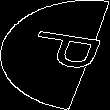P_E: (8, 31, 102, 79)
